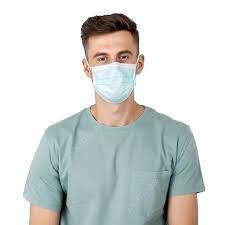mask: (88, 58, 139, 106)
